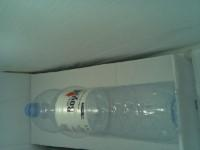BIODEGRADABLE: (12, 15, 99, 136)
